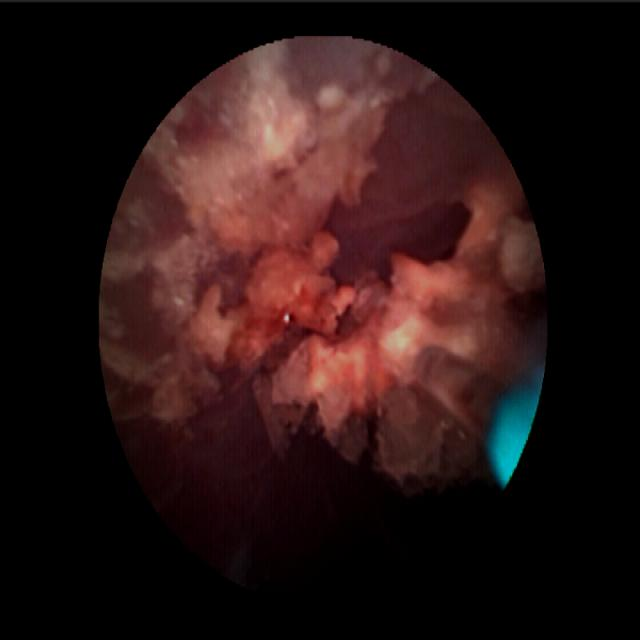fiber: (489, 394, 536, 487)
stone: (172, 58, 541, 491)
